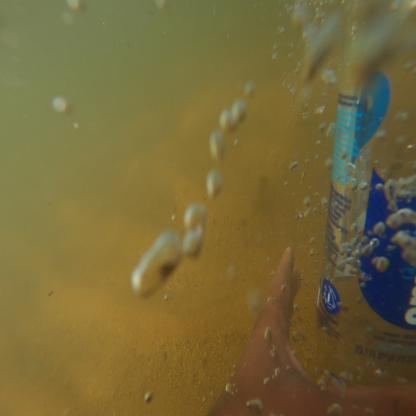Rác: (307, 1, 415, 415)
